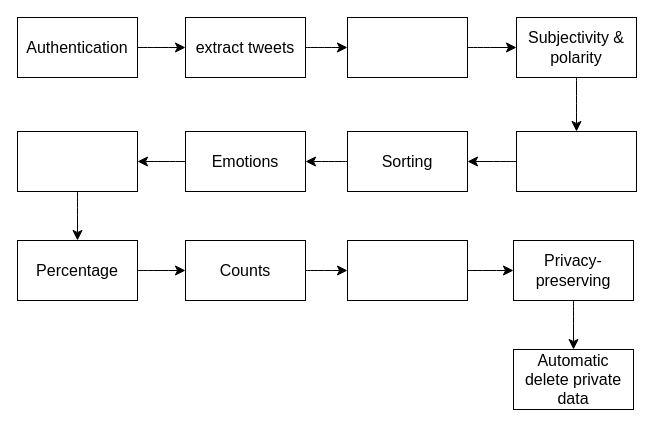
The diagram is 654 pixels wide and 427 high, and some of its shapes have lost their labels. Each missing label, with the centre of its shape:
"Clean text" goes at pixel 407 47.
"false rumors, defamation & abusive" goes at pixel 407 270.
"Polarity" goes at pixel 77 161.
"Word cloud" goes at pixel 576 161.
